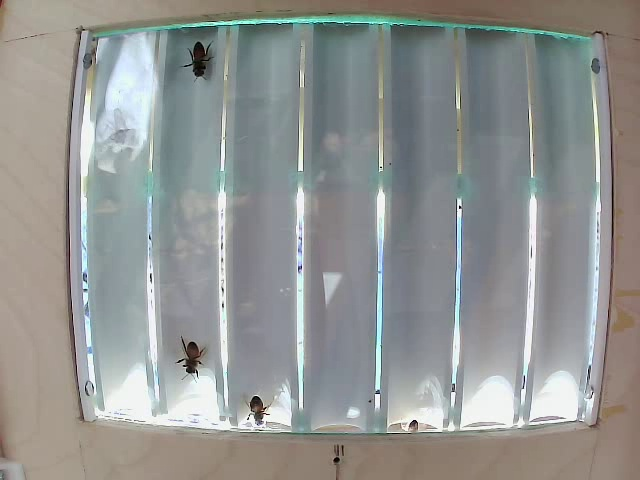bee: (179, 338, 228, 392), (182, 32, 222, 98), (250, 387, 276, 433)
